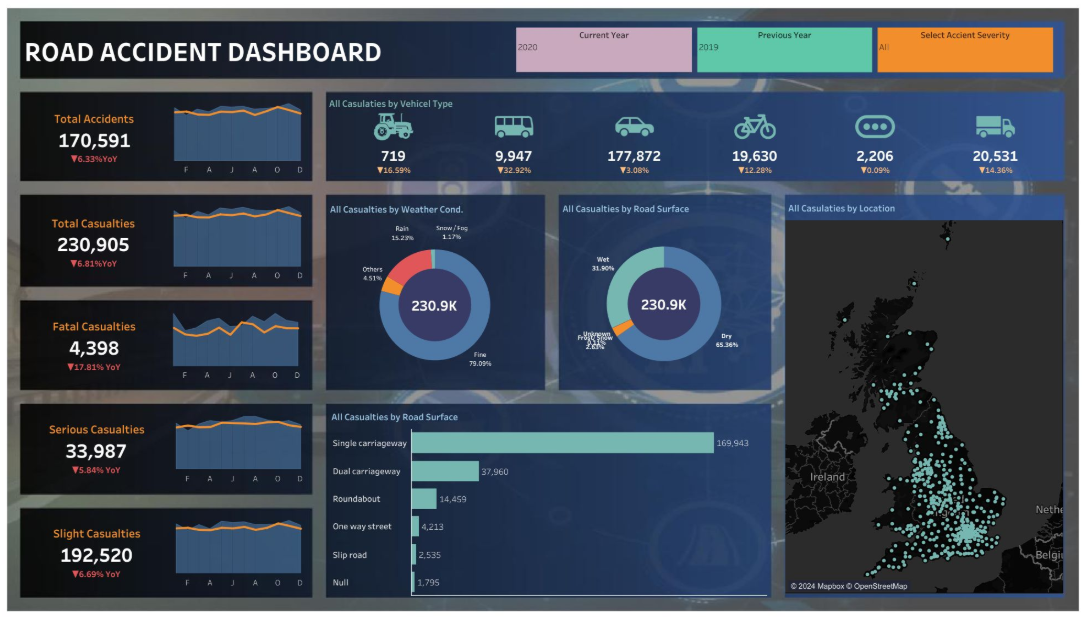

The page's visual inventory and layout, read from the dashboard file:
{"tool":"tableau","page":{"name":"Dashboard 1","canvas":[1600,900],"ordinal":0},"visuals":[{"type":"text","box":[76,14,796,72]},{"type":"parameter","param":"[Parameters].[Parameter 1]","box":[958,14,184.7,70]},{"type":"parameter","param":"[Parameters].[Current Year (copy)_1172624767270879233]","box":[1142.7,14,184.7,70]},{"type":"parameter","param":"[Parameters].[Parameter 2]","box":[1327.3,14,184.7,70]},{"type":"text","box":[494,108,529,24]},{"type":"worksheet","title":"Total Accident","mark":"Automatic","box":[71,110,202,121]},{"type":"worksheet","title":"Accident Sparkline","mark":"Automatic","rows":["CY Accidents (copy)_2162572261135101952","Calculation_1172624767271596034"],"cols":["Accident Date"],"box":[273,110,201,121]},{"type":"worksheet","title":"Vehical type images","mark":"Shape","box":[494,132,1020,32]},{"type":"worksheet","title":"Vahical type KPI","mark":"Automatic","box":[494,164,1020,68]},{"type":"worksheet","title":"Road Surface","mark":"Pie","rows":["Calculation_325666564095164417","Calculation_325666564095193091"],"box":[818,250,294,276]},{"type":"worksheet","title":"Weather Condition","mark":"Pie","rows":["Calculation_325666564095164417","Calculation_325666564095193091"],"box":[494,251,303,273]},{"type":"worksheet","title":"Total Casualties","mark":"Automatic","box":[70,253,202,122]},{"type":"worksheet","title":"Total Casualties Sparkline ","mark":"Automatic","rows":["CY Casualties (copy)_2162572261143224323","Calculation_2162572261142384642"],"cols":["Accident Date"],"box":[272,253,202,122]},{"type":"worksheet","title":"By Location","mark":"Automatic","rows":["Latitude"],"cols":["Longitude"],"box":[1133,254,383,554]},{"type":"worksheet","title":"Fetal Casualties","mark":"Automatic","box":[72,398,201,120]},{"type":"worksheet","title":"Fatal Sparkline ","mark":"Automatic","rows":["CY Fatal Casualties (copy)_2162572261146091526","Calculation_2162572261145198597"],"cols":["Accident Date"],"box":[273,398,200,120]},{"type":"worksheet","title":"Serious Casualties ","mark":"Automatic","box":[68,538,204,128]},{"type":"worksheet","title":"Serious Sparkline ","mark":"Automatic","rows":["PY Fatal Casualties (copy)_2162572261148442633","CY Fatal Casualties (copy)_2162572261147582472"],"cols":["Accident Date"],"box":[272,538,203,128]},{"type":"worksheet","title":"Road Type","mark":"Automatic","rows":["Road_Type"],"cols":["Calculation_2162572261142384642"],"box":[496,542,613,265]},{"type":"worksheet","title":"Slight Casualties ","mark":"Automatic","box":[69,684,204,126]},{"type":"worksheet","title":"Slight Sparkline ","mark":"Automatic","rows":["CY Slight Casualties  (copy)_2162572261150126093","CY Serious Casualties  (copy)_2162572261149937676"],"cols":["Accident Date"],"box":[273,684,203,126]}]}

Visuals, with their boxes in screenshot pixels (x1, y1, x2, y2), scaled from the page's 1600x900 canvas onto the 1087x618 screenshot:
text: BBox(52, 10, 592, 59)
parameter: BBox(651, 10, 776, 58)
parameter: BBox(776, 10, 902, 58)
parameter: BBox(902, 10, 1027, 58)
text: BBox(336, 74, 695, 91)
"Total Accident" worksheet: BBox(48, 76, 185, 159)
"Accident Sparkline" worksheet: BBox(185, 76, 322, 159)
"Vehical type images" worksheet (Shape marks): BBox(336, 91, 1029, 113)
"Vahical type KPI" worksheet: BBox(336, 113, 1029, 159)
"Road Surface" worksheet (Pie marks): BBox(556, 172, 755, 361)
"Weather Condition" worksheet (Pie marks): BBox(336, 172, 541, 360)
"Total Casualties" worksheet: BBox(48, 174, 185, 258)
"Total Casualties Sparkline " worksheet: BBox(185, 174, 322, 258)
"By Location" worksheet: BBox(770, 174, 1030, 555)
"Fetal Casualties" worksheet: BBox(49, 273, 185, 356)
"Fatal Sparkline " worksheet: BBox(185, 273, 321, 356)
"Serious Casualties " worksheet: BBox(46, 369, 185, 457)
"Serious Sparkline " worksheet: BBox(185, 369, 323, 457)
"Road Type" worksheet: BBox(337, 372, 753, 554)
"Slight Casualties " worksheet: BBox(47, 470, 185, 556)
"Slight Sparkline " worksheet: BBox(185, 470, 323, 556)
